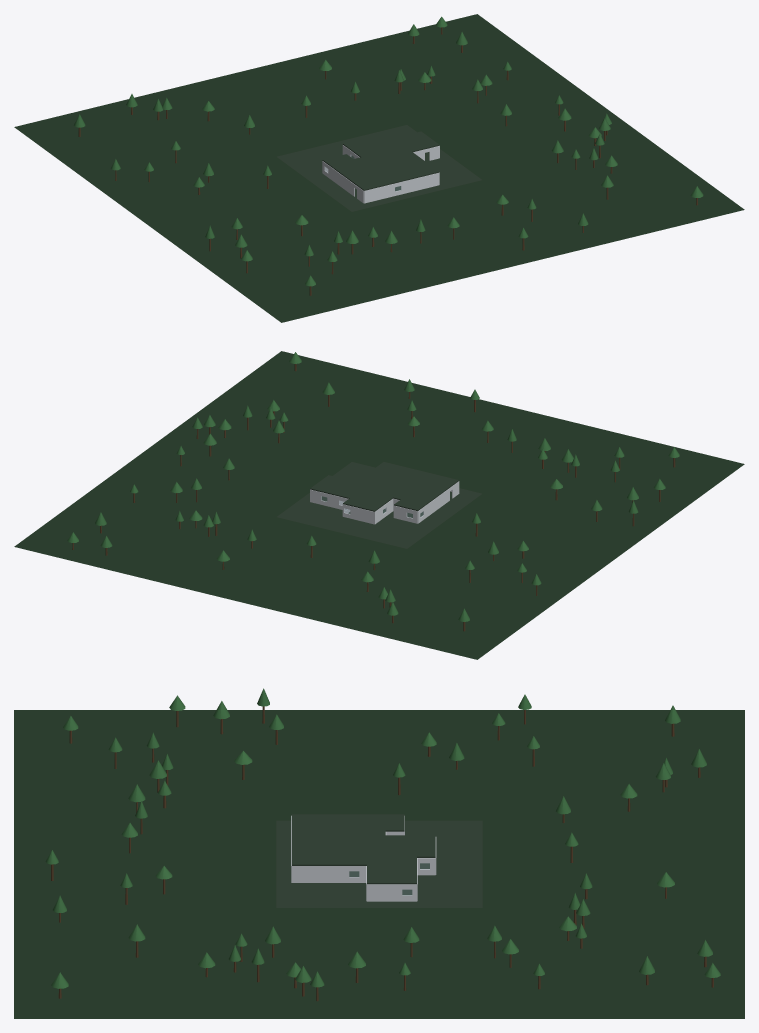
The model's file is level-1.glb.
The picture shows the model from 3 angles, top to bottom: view 1: azimuth 30°, elevation 25°; view 2: azimuth 150°, elevation 25°; view 3: azimuth 270°, elevation 25°; orthographic projection. The views are drawn at different scales.
Parts seen in each view (by area): view 1: svg-stage; view 2: svg-stage; view 3: svg-stage.
Part boxes in pixels (x1=…): svg-stage: x1=14, y1=14, x2=744, y2=322; svg-stage: x1=14, y1=351, x2=744, y2=659; svg-stage: x1=14, y1=688, x2=744, y2=1018.
Size of the model in its own units: 117 by 6.24 by 117.
